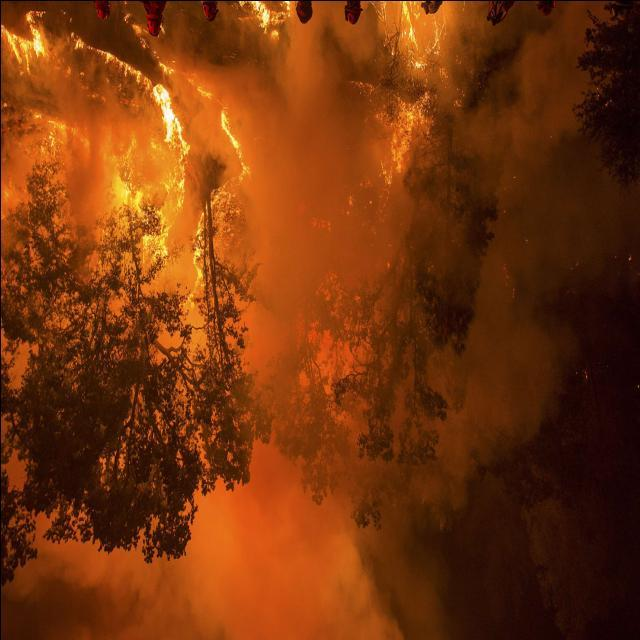Fire: (0, 19, 251, 306), (350, 0, 451, 199)
